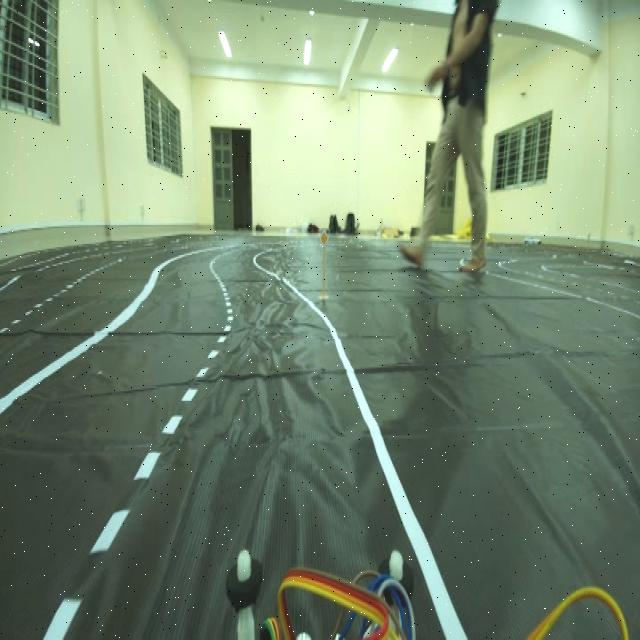priority: (318, 224, 332, 254)
